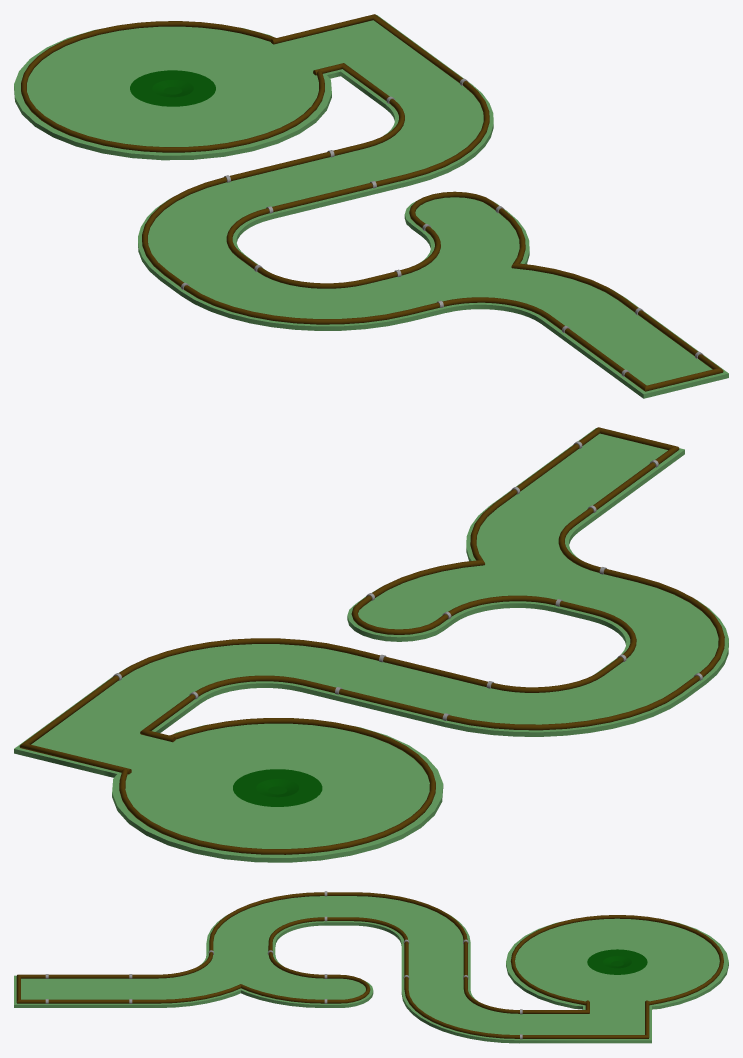
Rendered from Hole04.FBX.
3 renders of one model, top to bottom at view 1: azimuth 30°, elevation 25°; view 2: azimuth 150°, elevation 25°; view 3: azimuth 270°, elevation 25°, orthographic. The views are drawn at different scales.
Visible parts, largest first — view 1: Course04; view 2: Course04; view 3: Course04.
Boxes of the visible parts, x1,y1,x2,y2 form: Course04: [14, 14, 728, 398]; Course04: [14, 427, 728, 862]; Course04: [14, 891, 728, 1043].
Bounding box in the file's own units: 2496 × 53.27 × 5127.
